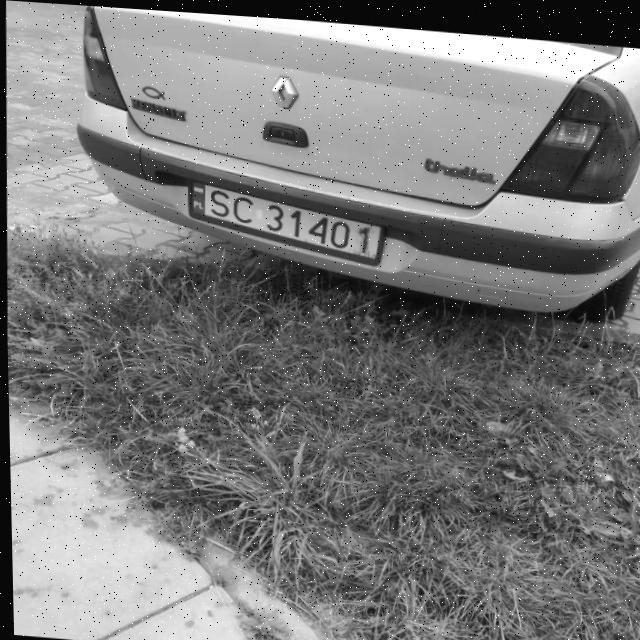license-plates: (189, 182, 384, 265)
